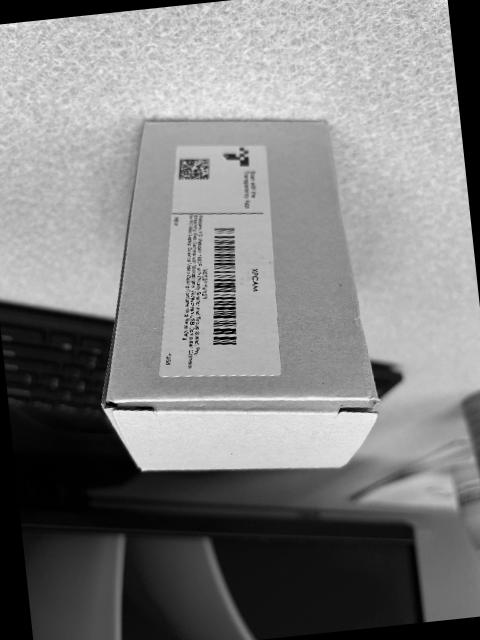CameraBox1: (101, 115, 378, 469)
